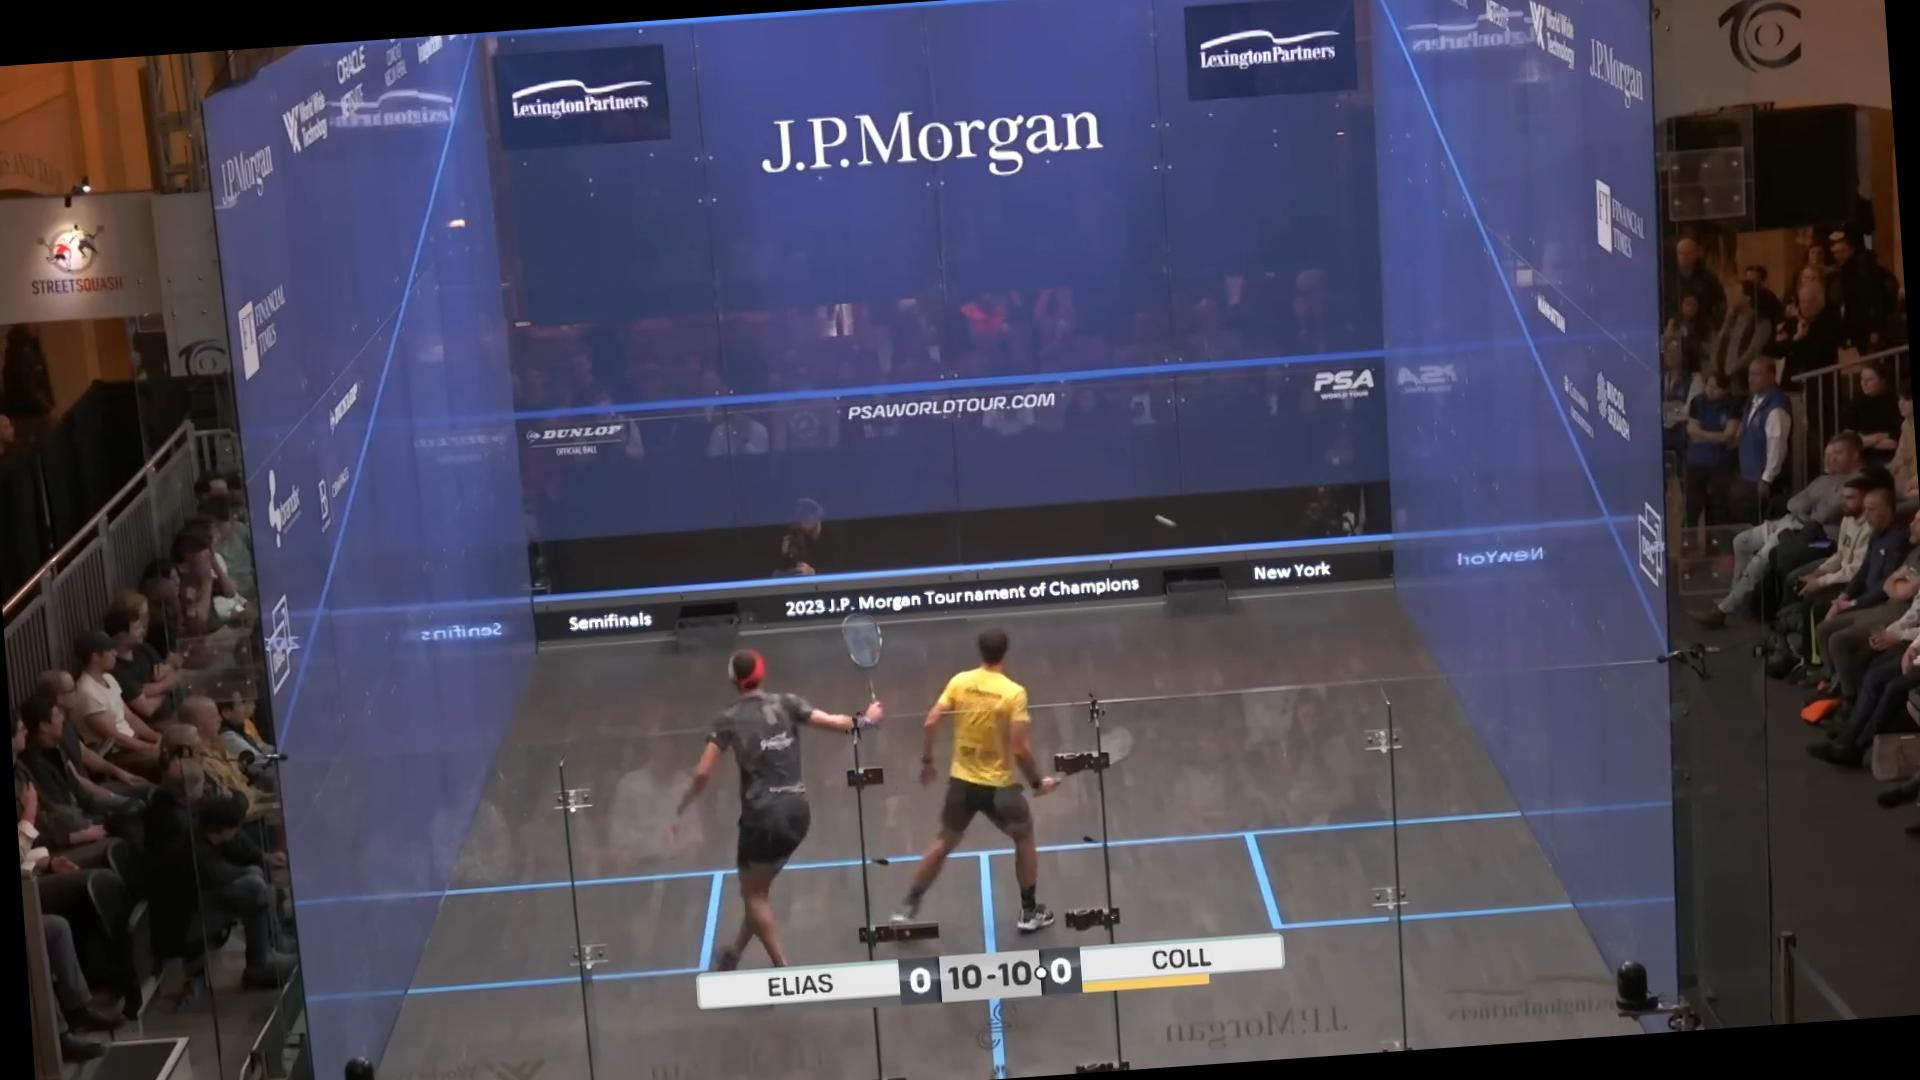Racket: (1051, 716, 1149, 795), (832, 600, 898, 712)
